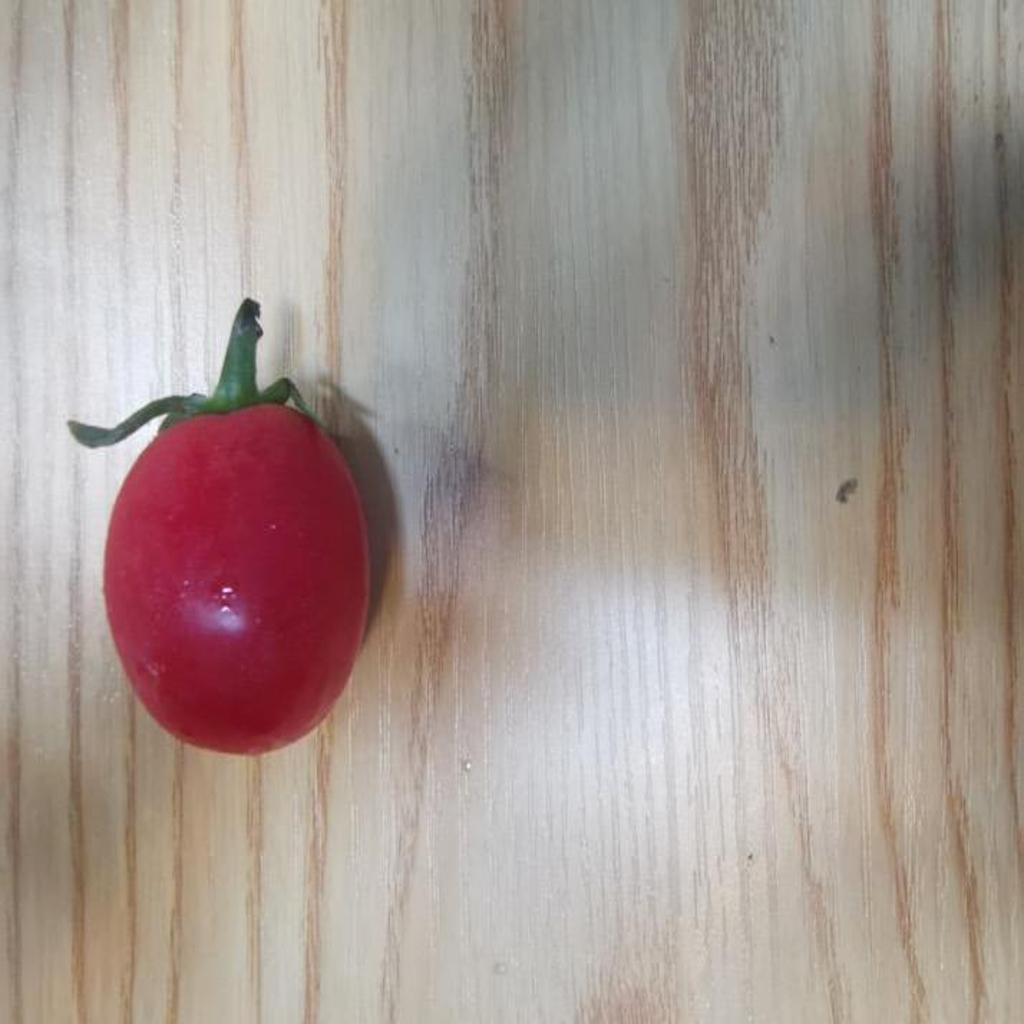tomato: (95, 336, 371, 759)
